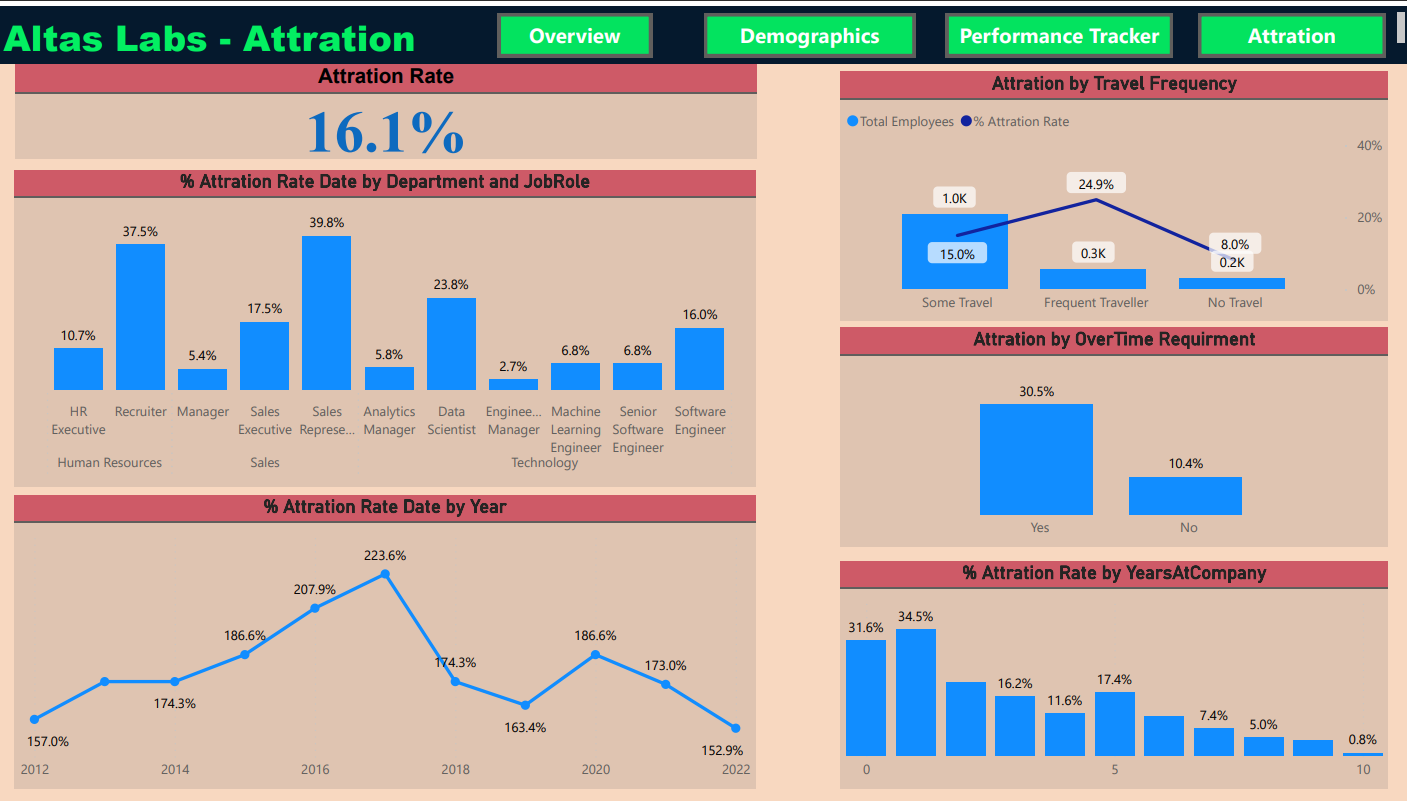

The page's visual inventory and layout, read from the dashboard file:
{"tool":"powerbi","page":{"name":"Attration","canvas":[1280,720],"ordinal":3},"visuals":[{"type":"card","title":"Attration Rate","fields":{"Values":["_Measures.% Attration Rate"]},"box":[15.7,51.9,671.8,85.6],"z":0},{"type":"lineChart","fields":{"Category":["DimDate.Date.Variation.Date Hierarchy.Year","DimDate.Date.Variation.Date Hierarchy.Quarter","DimDate.Date.Variation.Date Hierarchy.Month","DimDate.Date.Variation.Date Hierarchy.Day"],"Y":["_Measures.% Attration Rate Date"]},"box":[15.1,442.8,671.8,266],"z":1000},{"type":"clusteredColumnChart","fields":{"Y":["_Measures.% Attration Rate Date"],"Category":["DimEmployee.Department","DimEmployee.JobRole"]},"box":[15.1,148.1,671.8,286.5],"z":2000},{"type":"lineStackedColumnComboChart","title":"Attration by Travel Frequency","fields":{"Category":["DimEmployee.BusinessTravel"],"Y":["_Measures.Total Employees"],"Y2":["_Measures.% Attration Rate"]},"box":[763.7,59,496.3,226.2],"z":3000},{"type":"columnChart","title":"Attration by OverTime Requirment","fields":{"Category":["DimEmployee.OverTime"],"Y":["_Measures.% Attration Rate"]},"box":[763.7,290.7,496.3,198.8],"z":4000},{"type":"clusteredColumnChart","fields":{"Y":["_Measures.% Attration Rate"],"Category":["DimEmployee.YearsAtCompany"]},"box":[763.7,503.2,496.3,205.7],"z":5000},{"type":"textbox","box":[0,0,1280.6,52.1],"z":6000},{"type":"actionButton","box":[453.5,6,139.9,39.8],"z":7000},{"type":"actionButton","box":[640.4,6,191.8,39.8],"z":8000},{"type":"actionButton","box":[858.7,6,206.2,39.8],"z":9000},{"type":"actionButton","box":[1087.8,6,170.1,39.8],"z":10000}]}

Visuals, with their boxes in screenshot pixels (x1, y1, x2, y2), scaled from the page's 1280x720 canvas onto the 1407x805 screenshot:
"Attration Rate" card: bbox=(17, 58, 756, 154)
lineChart - DimDate.Date.Variation.Date Hierarchy.Year x DimDate.Date.Variation.Date Hierarchy.Quarter: bbox=(17, 495, 755, 792)
clusteredColumnChart - _Measures.% Attration Rate Date x DimEmployee.Department: bbox=(17, 166, 755, 486)
"Attration by Travel Frequency" lineStackedColumnComboChart: bbox=(839, 66, 1385, 319)
"Attration by OverTime Requirment" columnChart: bbox=(839, 325, 1385, 547)
clusteredColumnChart - _Measures.% Attration Rate x DimEmployee.YearsAtCompany: bbox=(839, 563, 1385, 793)
textbox: bbox=(0, 0, 1406, 58)
actionButton: bbox=(498, 7, 652, 51)
actionButton: bbox=(704, 7, 915, 51)
actionButton: bbox=(944, 7, 1171, 51)
actionButton: bbox=(1196, 7, 1383, 51)
